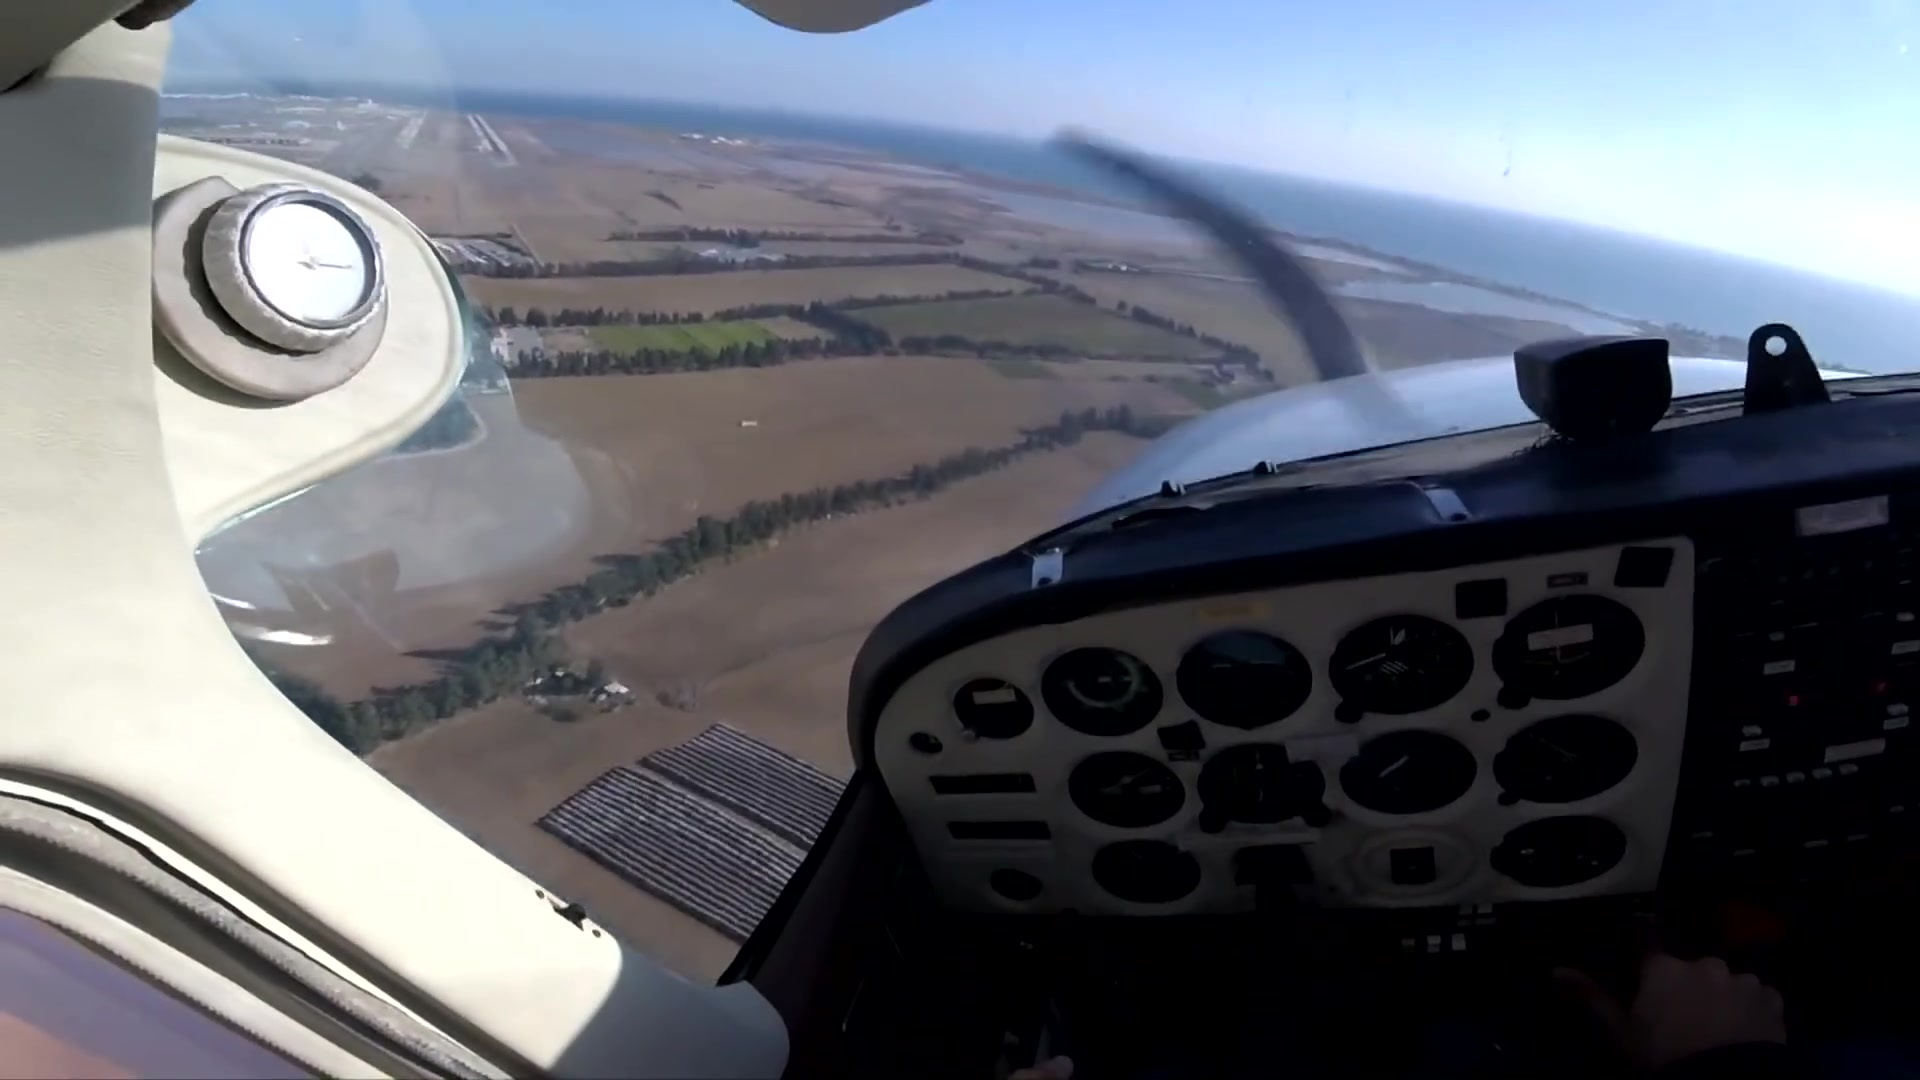runway: (465, 113, 521, 169)
